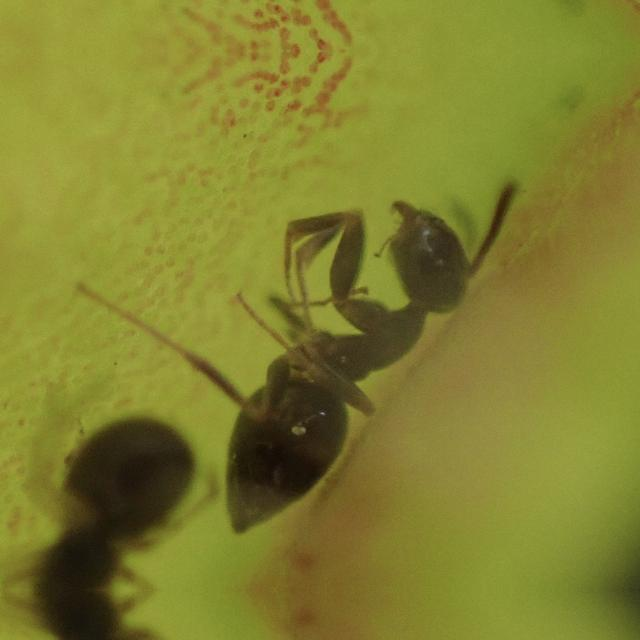Tapinoma: (157, 162, 533, 548)
